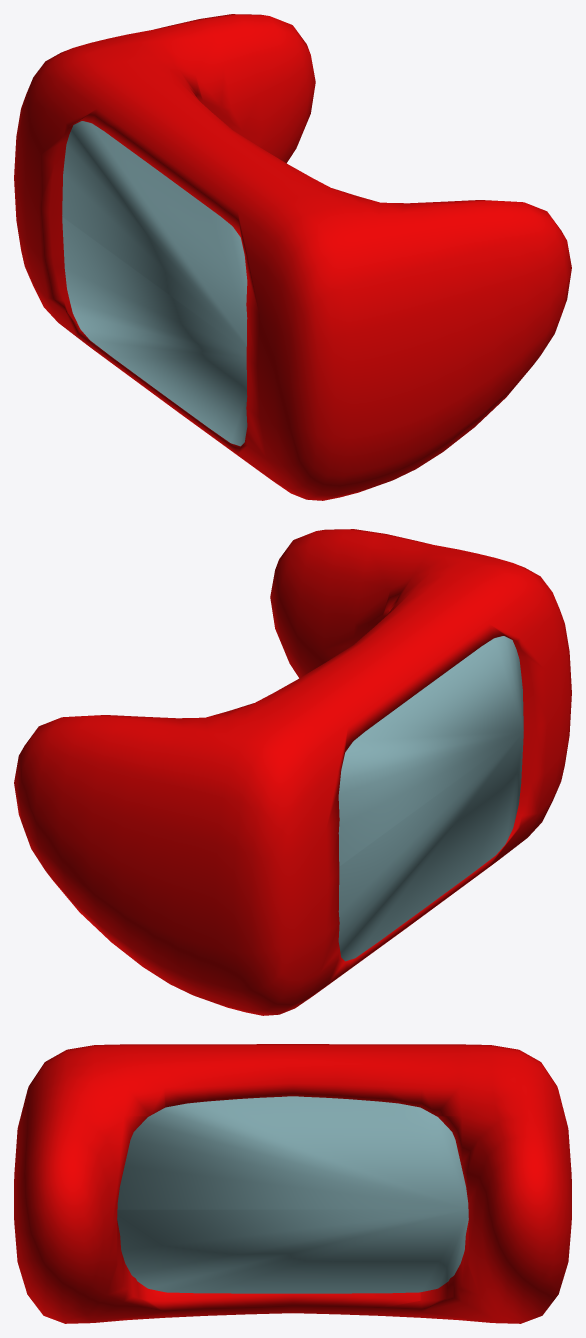
File: RED_Glasses_Smooth.fbx
The picture shows the model from 3 angles, top to bottom: view 1: azimuth 30°, elevation 25°; view 2: azimuth 150°, elevation 25°; view 3: azimuth 270°, elevation 25°; orthographic projection. The views are drawn at different scales.
Visible parts, largest first — view 1: Glasses_Trans_1, Glasses_Trans_2; view 2: Glasses_Trans_1, Glasses_Trans_2; view 3: Glasses_Trans_1, Glasses_Trans_2.
Boxes of the visible parts, x1,y1,x2,y2 form: Glasses_Trans_1: [14, 14, 571, 500]; Glasses_Trans_2: [62, 121, 247, 446]; Glasses_Trans_1: [14, 529, 571, 1015]; Glasses_Trans_2: [338, 636, 523, 961]; Glasses_Trans_1: [14, 1044, 571, 1323]; Glasses_Trans_2: [117, 1096, 468, 1293].
Size of the model in its own units: 64.43 by 60 by 118.
